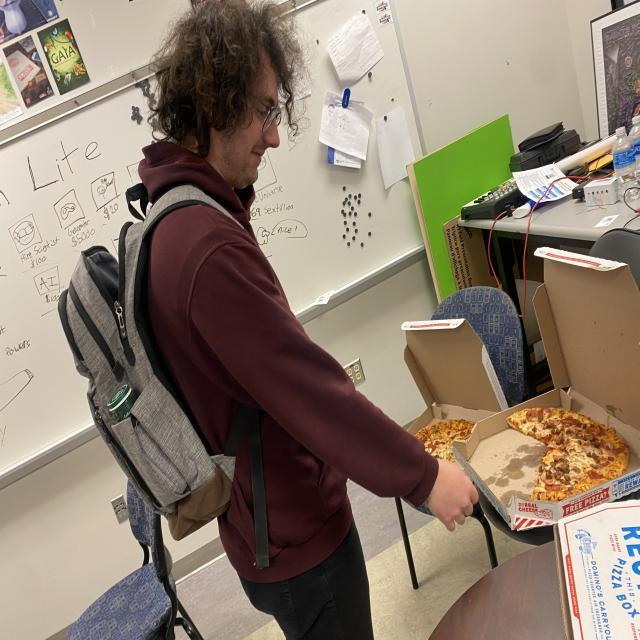Backpacks: (48, 225, 212, 550)
